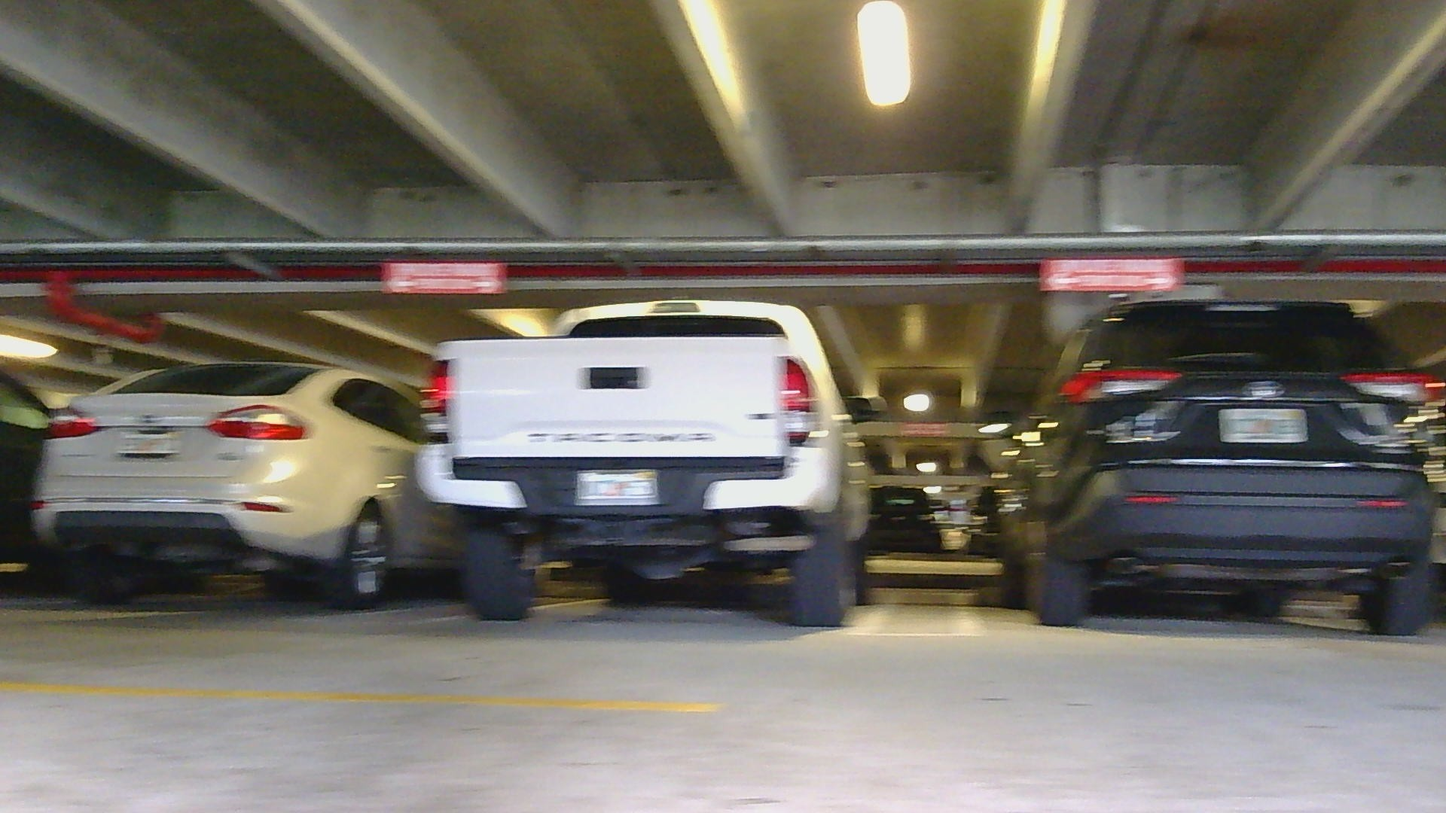occupied_spot: (976, 279, 1446, 640), (415, 295, 880, 622), (27, 353, 461, 619)
